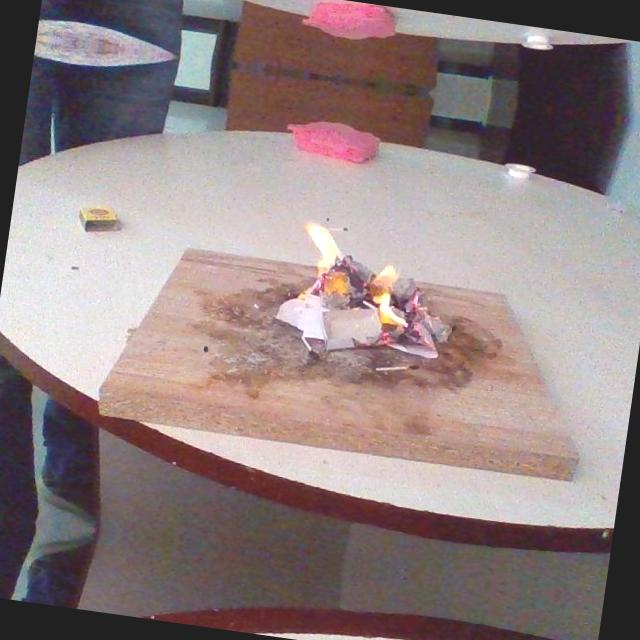fire: (260, 204, 429, 379)
